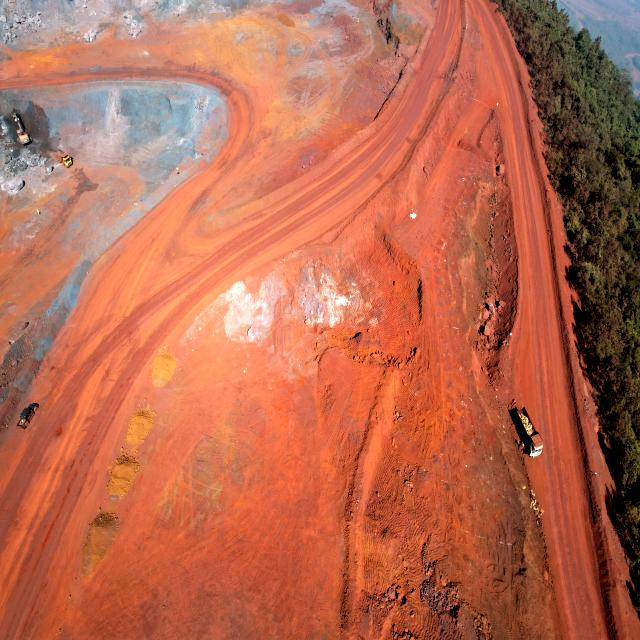Dumper truck: (515, 408, 545, 457), (58, 152, 72, 168)
Excavator: (11, 110, 30, 146)
car: (18, 399, 40, 430)
